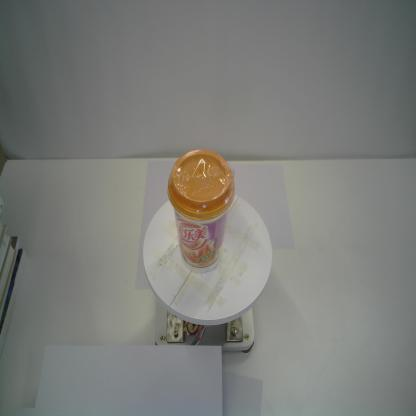Instant Drink: (167, 147, 236, 274)
